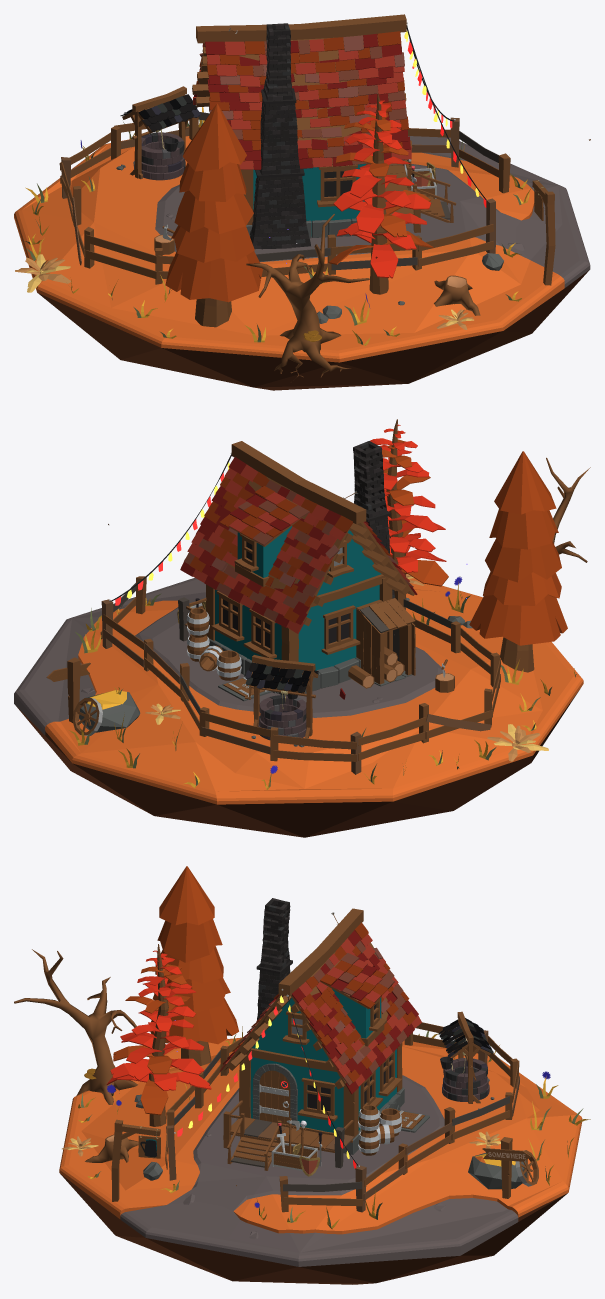
Rendered from tavern.glb.
The picture shows the model from 3 angles, top to bottom: view 1: azimuth 30°, elevation 25°; view 2: azimuth 150°, elevation 25°; view 3: azimuth 270°, elevation 25°; orthographic projection. The views are drawn at different scales.
Parts seen in each view (by area): view 1: Barrel bottom.003_Metal ring_0, Barrel bottom.003_Wood1_0, Cylinder.023_Leaves2_0, Cube.712_Wood1_0; view 2: Barrel bottom.003_Metal ring_0, Barrel bottom.003_Wood1_0, Cylinder.023_Leaves2_0; view 3: Barrel bottom.003_Metal ring_0, Barrel bottom.003_Wood1_0, Cylinder.023_Leaves2_0, Cube.712_Wood1_0.
Part boxes in pixels (<box>): Barrel bottom.003_Metal ring_0: <box>14,22,590,390</box>; Barrel bottom.003_Wood1_0: <box>59,14,590,382</box>; Cylinder.023_Leaves2_0: <box>333,100,431,278</box>; Cube.712_Wood1_0: <box>434,275,480,315</box>; Barrel bottom.003_Metal ring_0: <box>14,439,583,837</box>; Barrel bottom.003_Wood1_0: <box>46,419,590,761</box>; Cylinder.023_Leaves2_0: <box>370,424,446,572</box>; Barrel bottom.003_Metal ring_0: <box>59,866,590,1284</box>; Barrel bottom.003_Wood1_0: <box>14,908,538,1212</box>; Cylinder.023_Leaves2_0: <box>106,950,211,1090</box>; Cube.712_Wood1_0: <box>85,1134,138,1162</box>.
Size of the model in its own units: 2995 by 1910 by 3145.
Materials: 10 (10 with a texture image).
